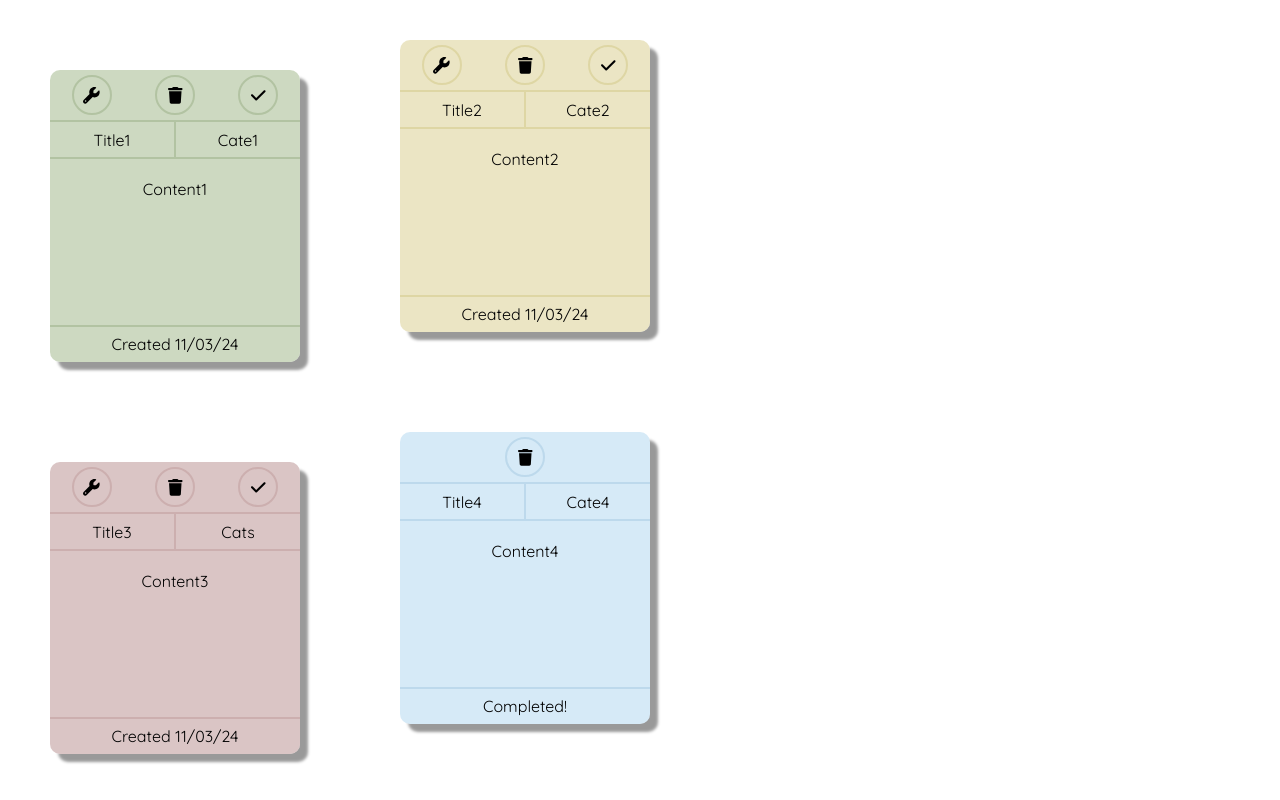
Test: App › Edit button opens modal
The width and height of the screenshot is (1280, 800).
Click the 2nd button with test id "editBtn" at (92, 95), box [72,75,112,115]
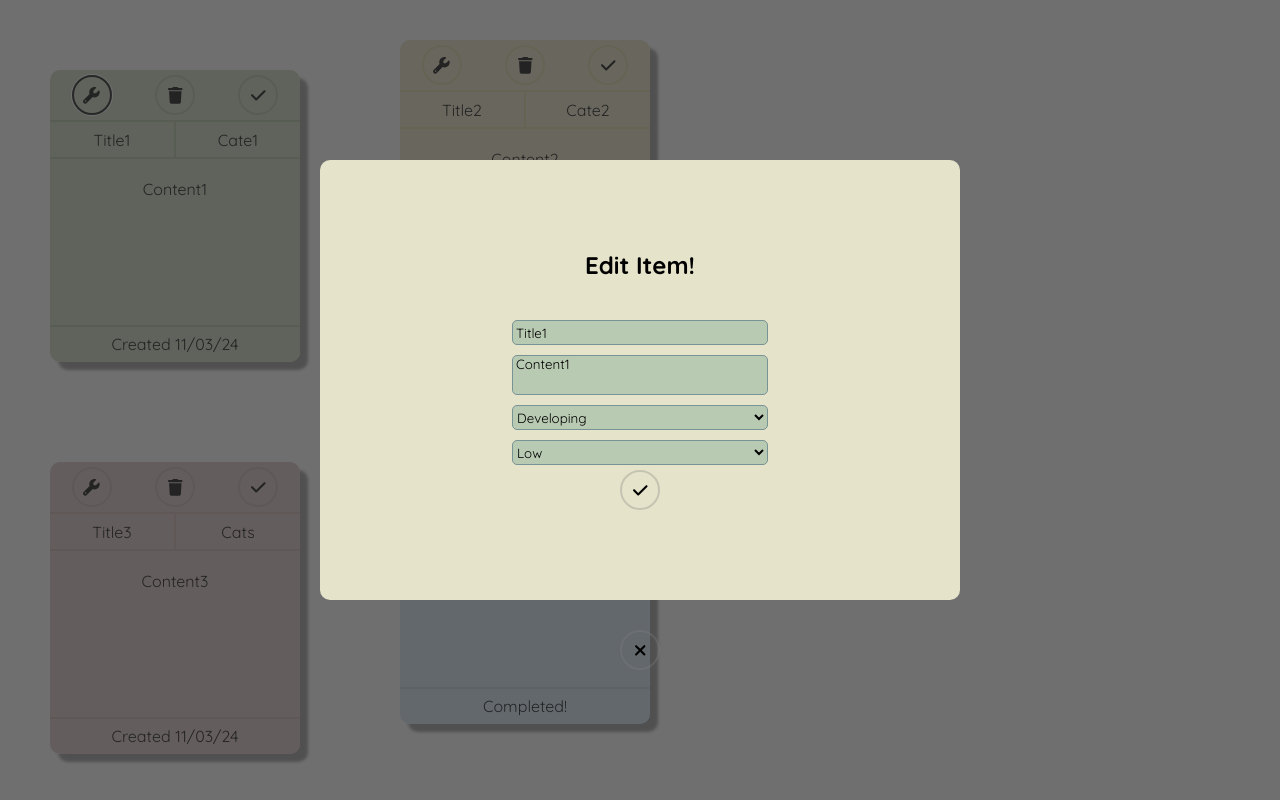
Expected: the button with test id "modalBtn" is shown, [620,470,660,510]
